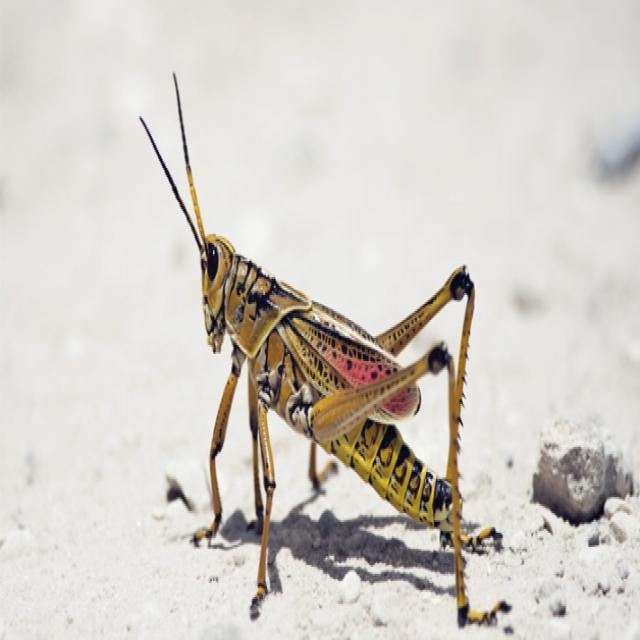ZhaMeng: (144, 101, 520, 574)
